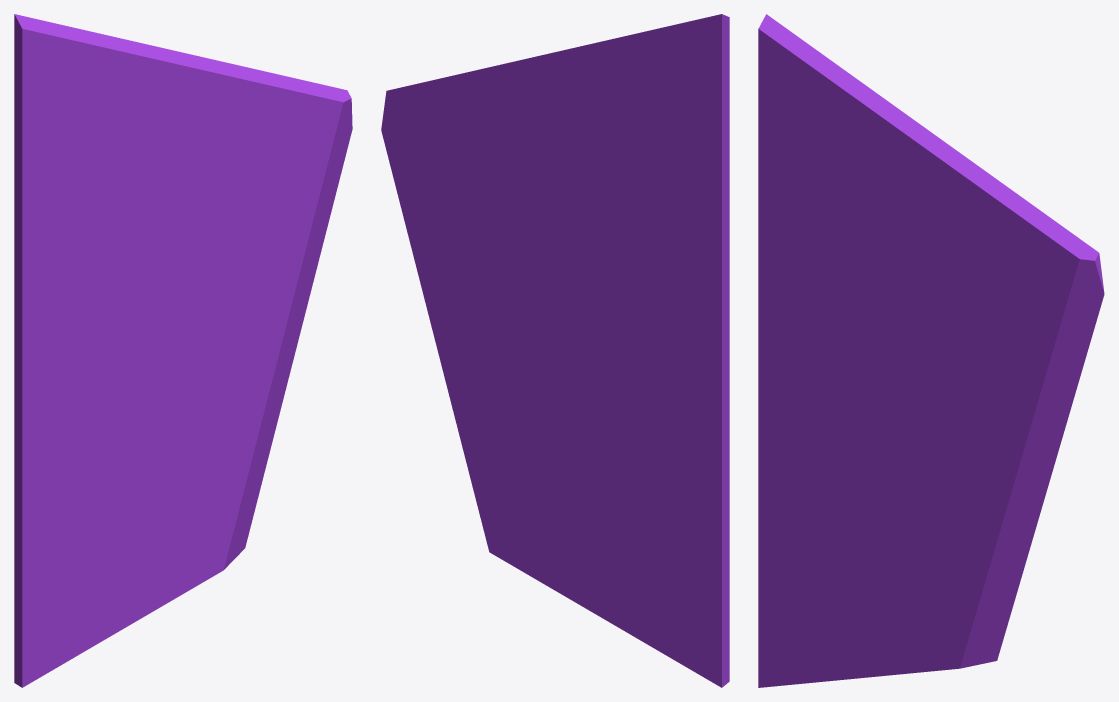
Rendered from Glass_80_2_chunks.fbx.
3 views of the same model, side by side, from view 1: azimuth 30°, elevation 25°; view 2: azimuth 150°, elevation 25°; view 3: azimuth 330°, elevation 25° (orthographic).
Parts seen in each view (by area): view 1: Glass_80_2_4, Glass_80_2_3, Glass_80_2_10, Glass_80_2_7, Glass_80_2_5, Glass_80_2_2, Glass_80_2_1, Glass_80_2_9, Glass_80_2_8, Glass_80_2_15, Glass_80_2_6, Glass_80_2_13 (+3 smaller); view 2: Glass_80_2_4, Glass_80_2_3, Glass_80_2_5, Glass_80_2_10, Glass_80_2_1, Glass_80_2_7, Glass_80_2_9, Glass_80_2_11, Glass_80_2_2, Glass_80_2_15, Glass_80_2_12, Glass_80_2_13 (+2 smaller); view 3: Glass_80_2_4, Glass_80_2_3, Glass_80_2_10, Glass_80_2_5, Glass_80_2_7, Glass_80_2_9, Glass_80_2_2, Glass_80_2_1, Glass_80_2_6, Glass_80_2_8, Glass_80_2_13, Glass_80_2_15 (+3 smaller).
Boxes of the visible parts, <box> form: Glass_80_2_4: <box>14,447,245,687</box>; Glass_80_2_3: <box>14,14,185,224</box>; Glass_80_2_10: <box>163,48,352,193</box>; Glass_80_2_7: <box>14,297,228,485</box>; Glass_80_2_5: <box>182,305,302,524</box>; Glass_80_2_2: <box>97,201,196,393</box>; Glass_80_2_1: <box>14,260,107,467</box>; Glass_80_2_9: <box>251,144,348,321</box>; Glass_80_2_8: <box>175,115,275,227</box>; Glass_80_2_15: <box>14,53,109,205</box>; Glass_80_2_6: <box>160,420,250,545</box>; Glass_80_2_13: <box>14,210,123,347</box>; Glass_80_2_4: <box>488,440,729,687</box>; Glass_80_2_3: <box>554,14,729,225</box>; Glass_80_2_5: <box>431,311,576,529</box>; Glass_80_2_10: <box>381,48,571,195</box>; Glass_80_2_1: <box>614,221,729,470</box>; Glass_80_2_7: <box>525,309,729,480</box>; Glass_80_2_9: <box>385,145,483,324</box>; Glass_80_2_11: <box>470,178,556,307</box>; Glass_80_2_2: <box>545,202,625,375</box>; Glass_80_2_15: <box>640,42,729,212</box>; Glass_80_2_12: <box>676,130,729,300</box>; Glass_80_2_13: <box>630,204,729,337</box>; Glass_80_2_4: <box>758,486,997,687</box>; Glass_80_2_3: <box>758,14,921,279</box>; Glass_80_2_10: <box>906,121,1104,317</box>; Glass_80_2_5: <box>918,406,1054,641</box>; Glass_80_2_7: <box>758,382,964,514</box>; Glass_80_2_9: <box>987,307,1100,462</box>; Glass_80_2_2: <box>833,274,932,430</box>; Glass_80_2_1: <box>758,302,843,467</box>; Glass_80_2_6: <box>897,498,1002,657</box>; Glass_80_2_8: <box>912,191,1011,342</box>; Glass_80_2_13: <box>758,249,859,348</box>; Glass_80_2_15: <box>758,53,845,243</box>.
Bounding box in the file's own units: 675 × 1275 × 27.2.
